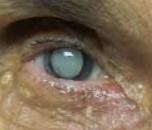eye: (43, 46, 93, 81)
